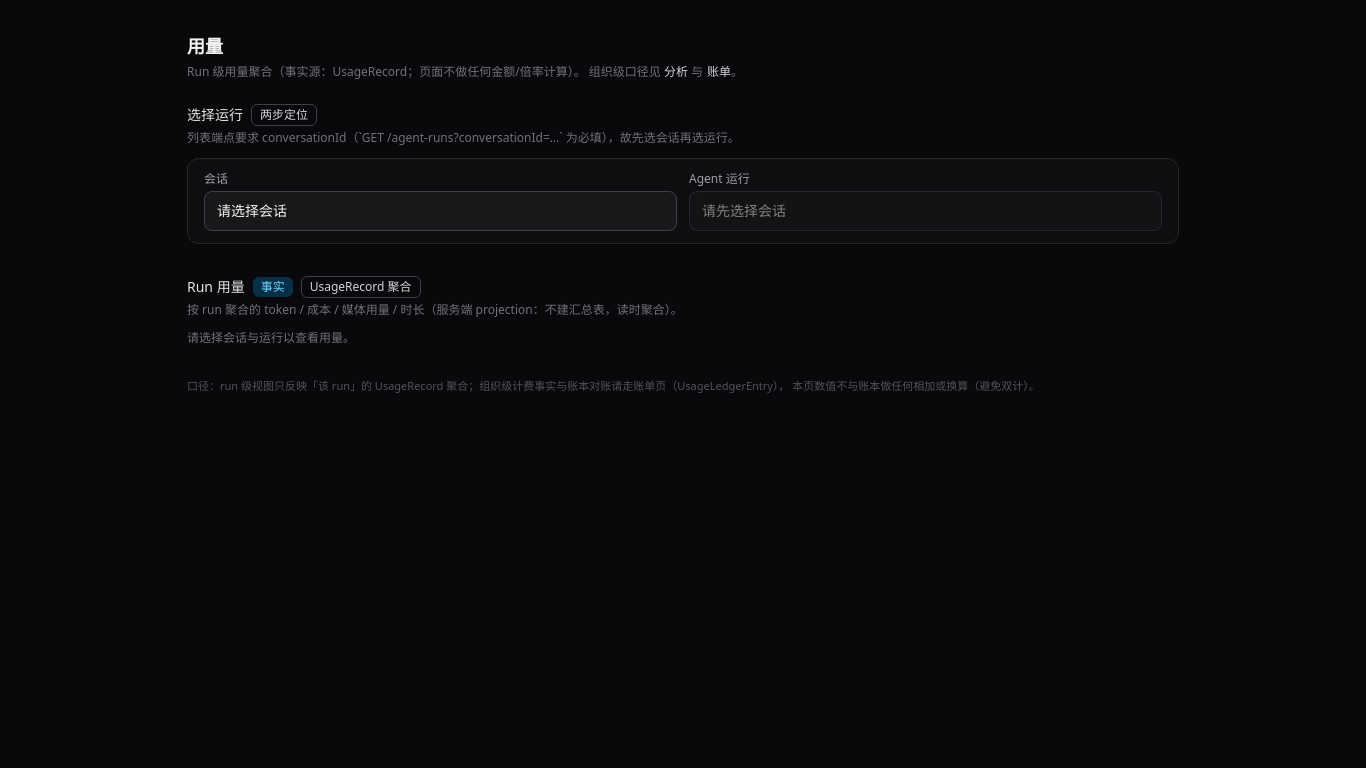
Usage 页面 · 两步定位（会话 → 运行） › 切换会话：按新 conversationId 重新取 runs，并自动切到该会话的 run（不跨会话复用旧选择）
This screenshot has width=1366, height=768.
Expected: the heading "用量" is shown, [187,34,223,58]
Select "生图实验 · 2026-09-29 11:20" in the dropdown labelled "会话" at (440, 211), box [204,191,677,231]
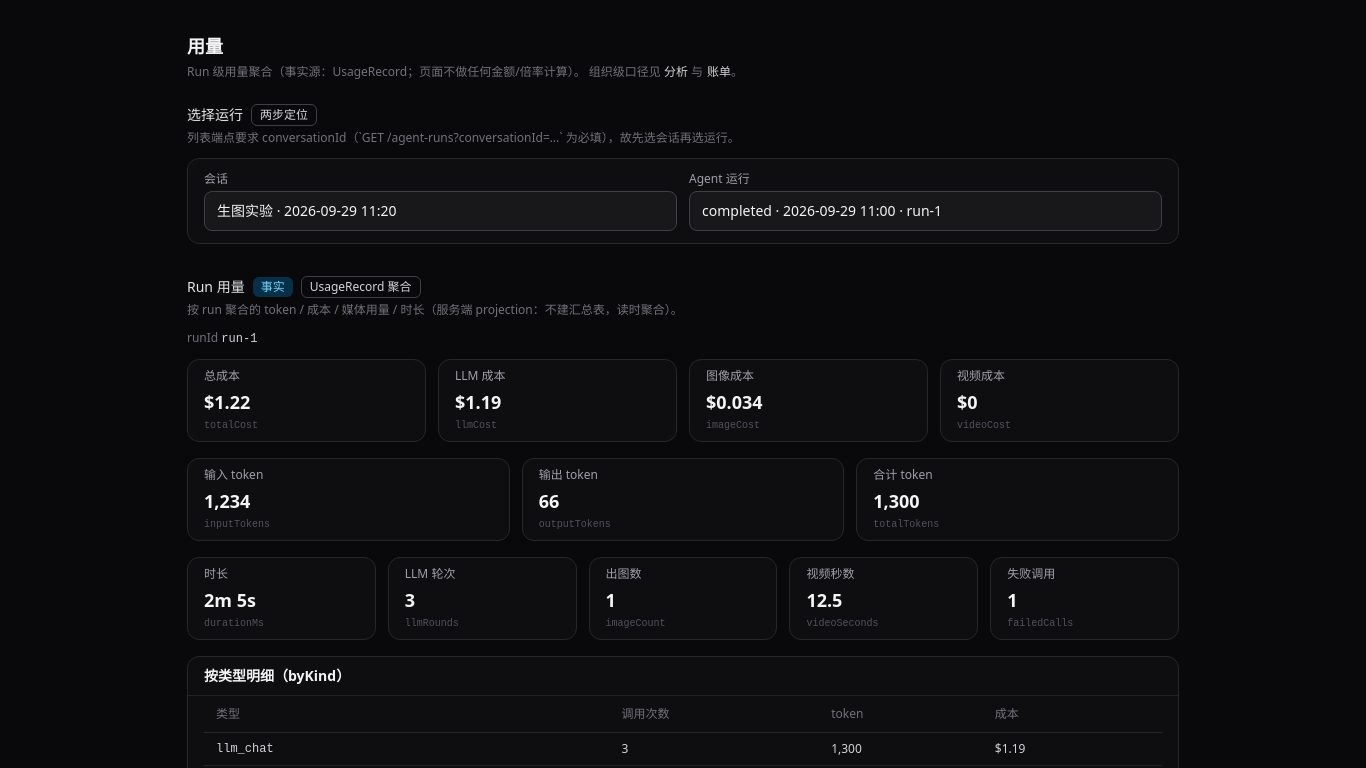
Expected: the dropdown labelled "Agent 运行" is enabled, [689,191,1162,231]
Expected: the text "run-1" is shown, [221,332,257,346]
Select "文案迭代 · 2026-09-28 09:00" in the dropdown labelled "会话" at (440, 211), box [204,191,677,231]
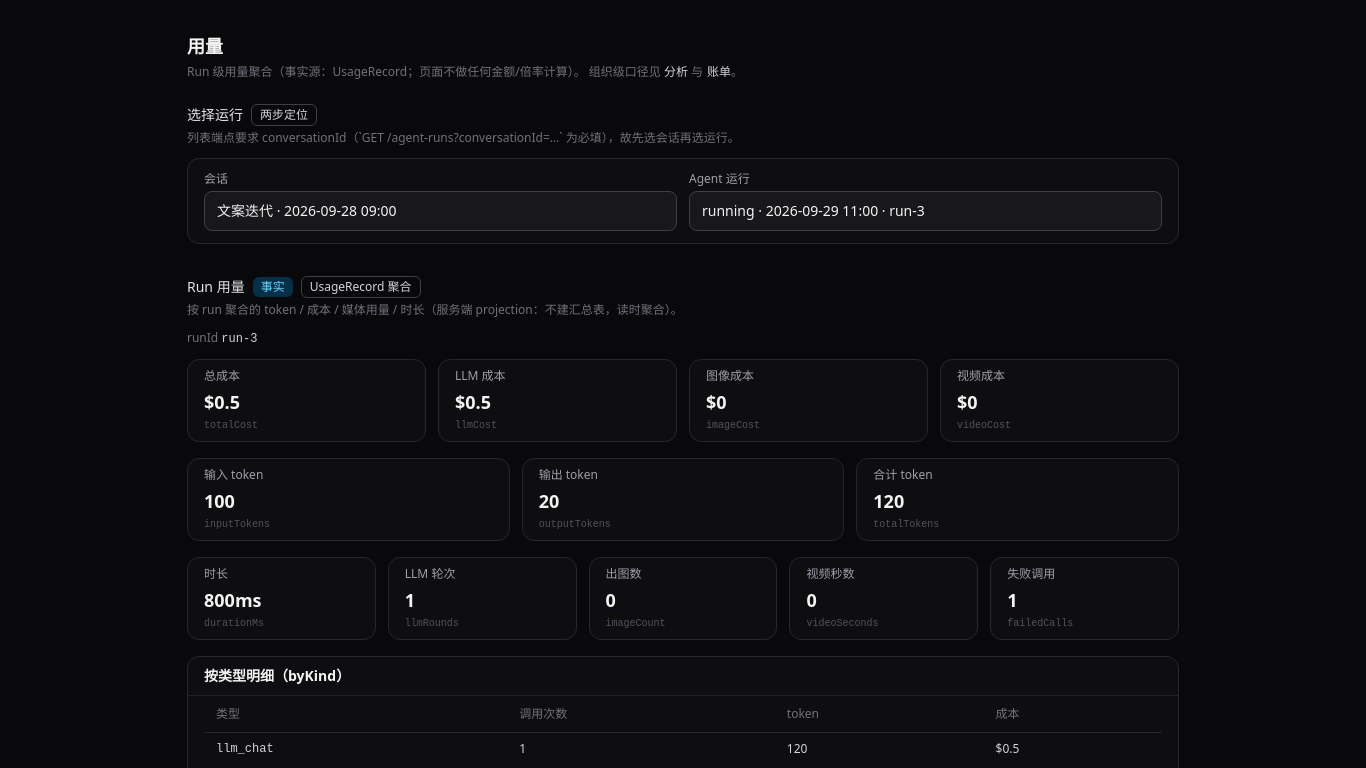
Expected: the dropdown labelled "Agent 运行" is enabled, [689,191,1162,231]
Expected: the dropdown labelled "Agent 运行" shows "running · 2026-09-29 11:00 · run-3", [689,191,1162,231]
